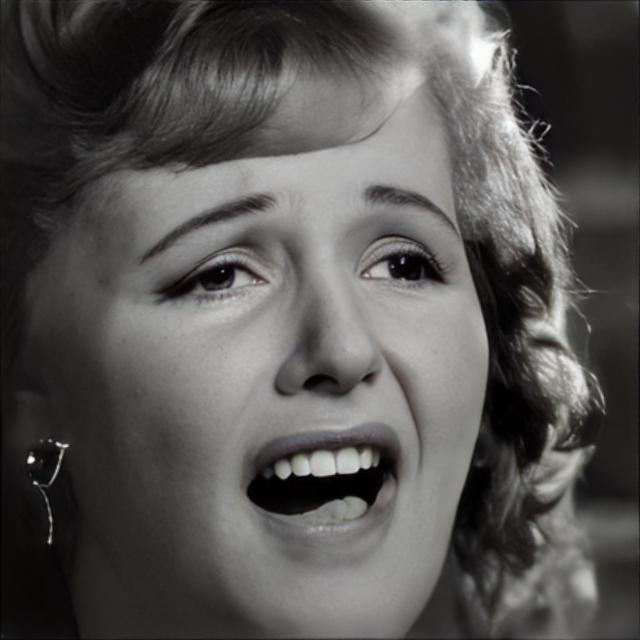Fear: (22, 37, 492, 640)
